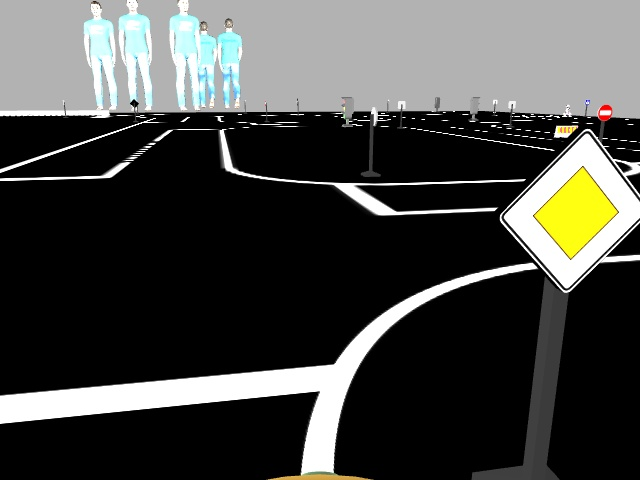ClosedRoadStand: (552, 123, 578, 137)
NoEntry: (598, 104, 613, 123)
Priority: (495, 124, 636, 296)
